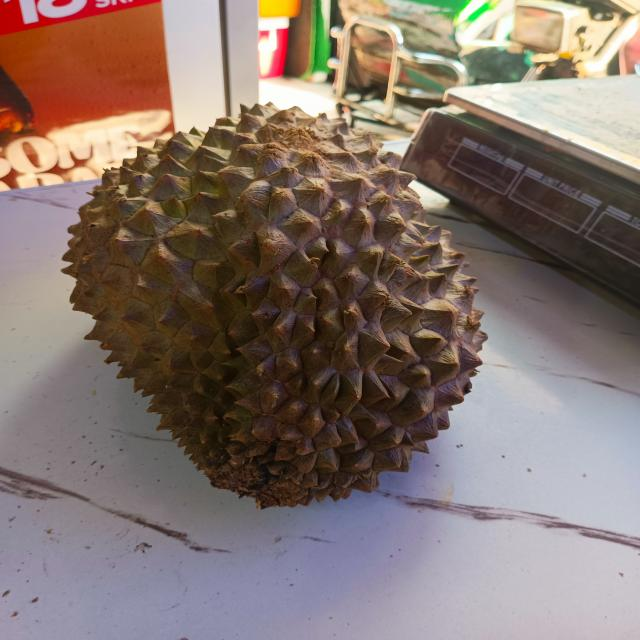mature: (64, 96, 499, 520)
